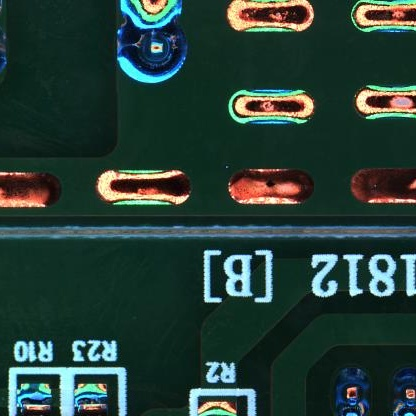spot: (117, 20, 190, 86), (334, 366, 372, 416), (391, 367, 416, 416)
